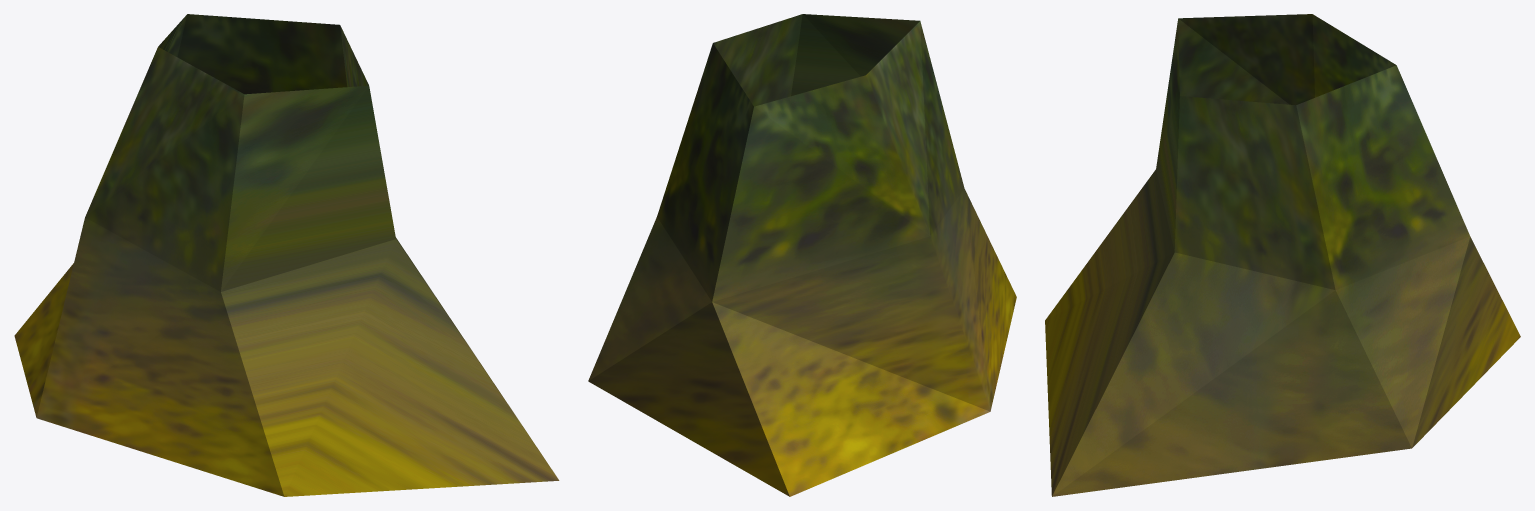
File: Ridge_1_1_Lat.gltf
The picture shows the model from 3 angles, left to right: view 1: azimuth 30°, elevation 25°; view 2: azimuth 150°, elevation 25°; view 3: azimuth 270°, elevation 25°; orthographic projection. The views are drawn at different scales.
Visible parts, largest first — view 1: Ridge_1_1_Lat; view 2: Ridge_1_1_Lat; view 3: Ridge_1_1_Lat.
Part boxes in pixels (x1,y1,x2,y2): Ridge_1_1_Lat: [14, 14, 559, 496]; Ridge_1_1_Lat: [588, 14, 1016, 496]; Ridge_1_1_Lat: [1045, 14, 1520, 496].
Bounding box in the file's own units: 17.52 × 17.09 × 20.08.
1 material, 1 textured.
